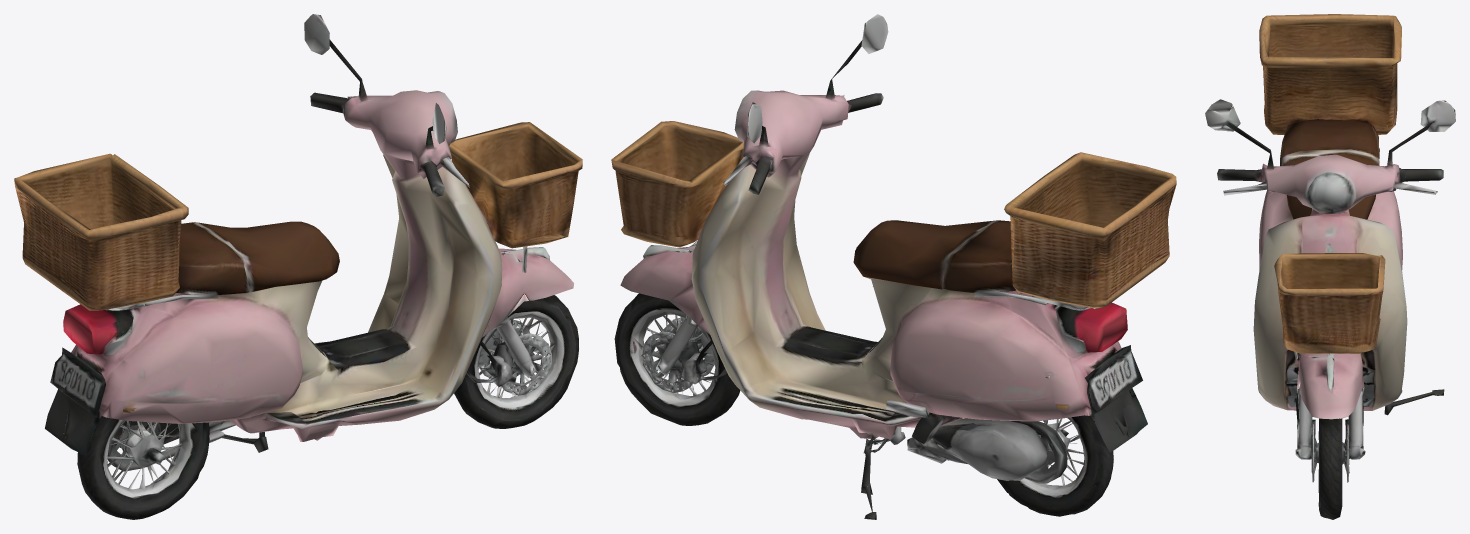
The model's file is au_veh_moped_sakura.glb.
3 views of the same model, side by side, from view 1: azimuth 30°, elevation 25°; view 2: azimuth 150°, elevation 25°; view 3: azimuth 270°, elevation 25° (orthographic). The views are drawn at different scales.
Visible parts, largest first — view 1: tripo_node_f39059bd-f953-405a-ba4f-bb8652a781b1; view 2: tripo_node_f39059bd-f953-405a-ba4f-bb8652a781b1; view 3: tripo_node_f39059bd-f953-405a-ba4f-bb8652a781b1.
Part boxes in pixels (box(x1,y1,x2,y2)): tripo_node_f39059bd-f953-405a-ba4f-bb8652a781b1: box(14, 14, 582, 519); tripo_node_f39059bd-f953-405a-ba4f-bb8652a781b1: box(611, 14, 1176, 519); tripo_node_f39059bd-f953-405a-ba4f-bb8652a781b1: box(1205, 14, 1455, 519).
Bounding box in the file's own units: 0.9804 × 0.7065 × 0.4516.
Materials: 1 (1 with a texture image).
